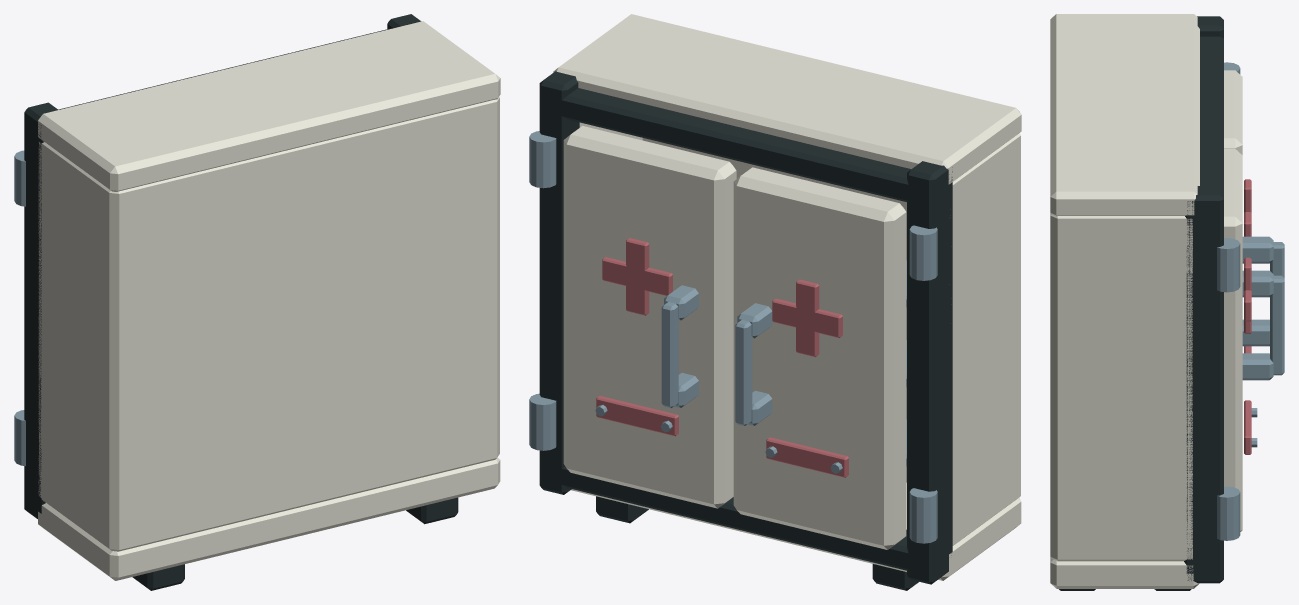
File: wall_emergency_supply_cabinet.glb
3 views of the same model, side by side, from view 1: azimuth 30°, elevation 25°; view 2: azimuth 150°, elevation 25°; view 3: azimuth 270°, elevation 25° (orthographic). The views are drawn at different scales.
Visible parts, largest first — view 1: body_back_wall, body_side_wall (×2), body_roof, body_floor, front_side_frame, rubber_support (×2), hinge_pin (×2); view 2: moving_left_door, moving_right_door, body_roof, body_side_wall, front_side_frame (×2), front_cross_frame (×2), hinge_pin (×4), body_floor, moving_right_handle_grip, moving_left_handle_grip, moving_left_first_aid_plate, moving_right_first_aid_plate (+8 smaller); view 3: body_side_wall, body_roof, front_side_frame (×2), moving_right_door, front_cross_frame (×2), body_floor, body_back_wall, hinge_pin (×2), moving_right_handle_mount (×2), moving_left_handle_mount (×2), moving_left_door, moving_right_handle_grip (+3 smaller).
Boxes of the visible parts, x1=… form: body_back_wall: x1=98, y1=100, x2=497, y2=551; body_side_wall (×2): x1=38, y1=97, x2=499, y2=551; body_roof: x1=38, y1=21, x2=500, y2=191; body_floor: x1=38, y1=457, x2=500, y2=580; front_side_frame: x1=24, y1=102, x2=57, y2=518; rubber_support (×2): x1=132, y1=497, x2=458, y2=590; hinge_pin (×2): x1=14, y1=150, x2=25, y2=465; moving_left_door: x1=733, y1=167, x2=906, y2=549; moving_right_door: x1=563, y1=126, x2=736, y2=508; body_roof: x1=553, y1=14, x2=1021, y2=184; body_side_wall: x1=952, y1=133, x2=1020, y2=545; front_side_frame (×2): x1=539, y1=71, x2=952, y2=584; front_cross_frame (×2): x1=540, y1=88, x2=952, y2=574; hinge_pin (×4): x1=529, y1=131, x2=937, y2=543; body_floor: x1=571, y1=482, x2=1021, y2=580; moving_right_handle_grip: x1=661, y1=302, x2=678, y2=408; moving_left_handle_grip: x1=735, y1=320, x2=752, y2=425; moving_left_first_aid_plate: x1=766, y1=437, x2=848, y2=477; moving_right_first_aid_plate: x1=596, y1=396, x2=678, y2=436; body_side_wall: x1=1050, y1=213, x2=1192, y2=561; body_roof: x1=1050, y1=14, x2=1199, y2=216; front_side_frame (×2): x1=1184, y1=16, x2=1223, y2=583; moving_right_door: x1=1224, y1=148, x2=1242, y2=531; front_cross_frame (×2): x1=1184, y1=36, x2=1223, y2=573; body_floor: x1=1050, y1=557, x2=1199, y2=588; body_back_wall: x1=1050, y1=214, x2=1078, y2=561; hinge_pin (×2): x1=1217, y1=238, x2=1240, y2=540; moving_right_handle_mount (×2): x1=1242, y1=270, x2=1273, y2=380; moving_left_handle_mount (×2): x1=1242, y1=236, x2=1273, y2=346; moving_left_door: x1=1224, y1=70, x2=1242, y2=154; moving_right_handle_grip: x1=1270, y1=275, x2=1284, y2=375.
Size of the model in its own units: 1.06 by 1.11 by 0.5635.
